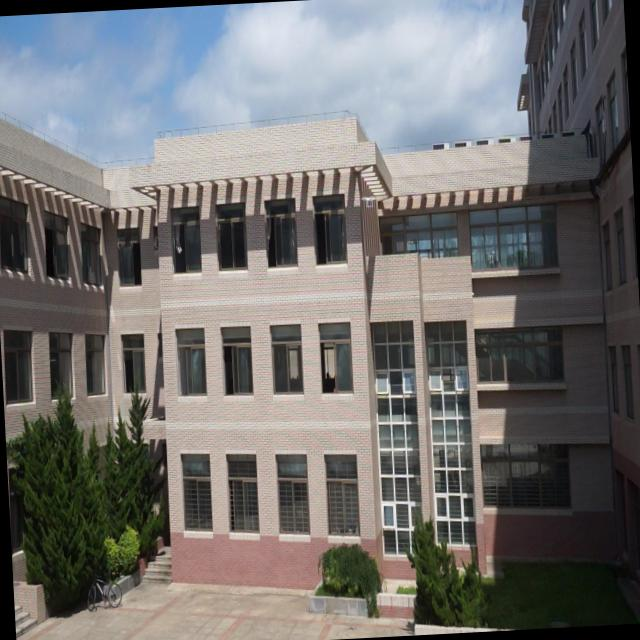drone: (360, 188, 380, 215)
